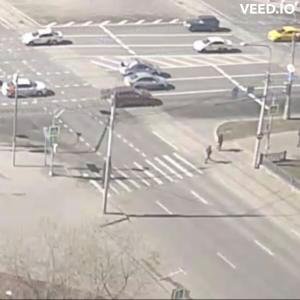car: (113, 87, 164, 111), (6, 78, 56, 99), (23, 29, 75, 48), (194, 37, 245, 55), (128, 74, 175, 93), (121, 57, 165, 77), (269, 24, 300, 44), (190, 16, 221, 35)
